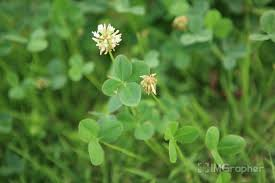4-clover: (101, 54, 151, 107)
